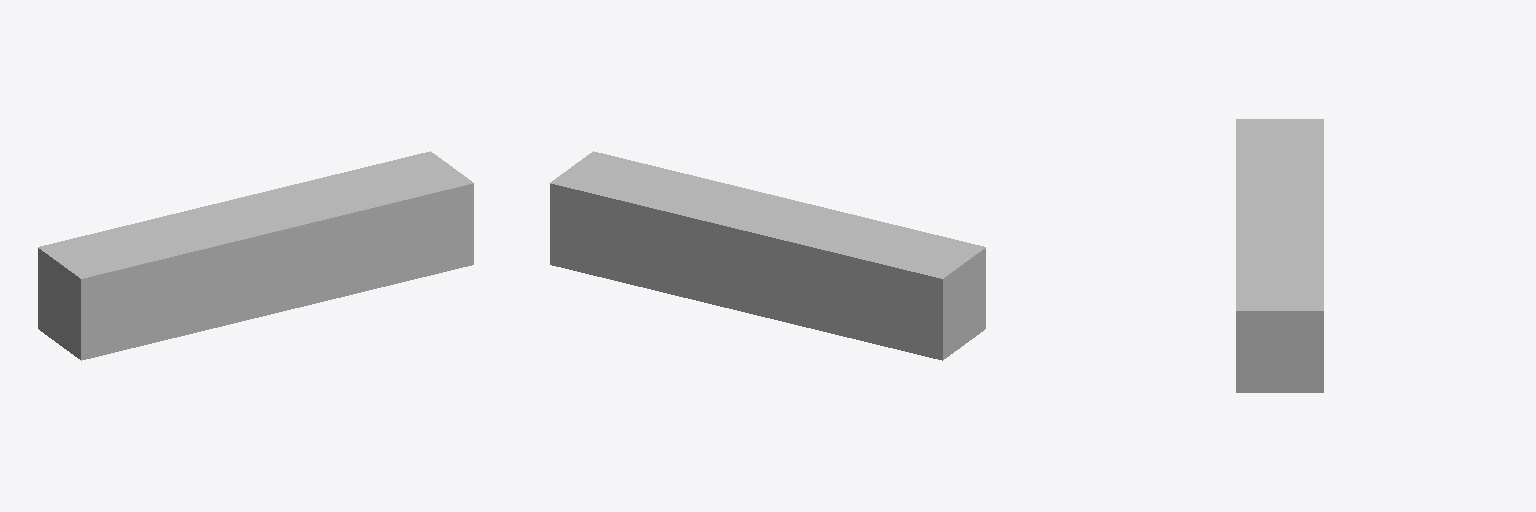
Rendered from nadproze_window.obj.
3 views of the same model, side by side, from view 1: azimuth 30°, elevation 25°; view 2: azimuth 150°, elevation 25°; view 3: azimuth 270°, elevation 25° (orthographic).
Parts seen in each view (by area): view 1: Extrusion; view 2: Extrusion; view 3: Extrusion.
Part boxes in pixels (left/top/right/bottom): Extrusion: left=38, top=151, right=473, bottom=360; Extrusion: left=550, top=151, right=985, bottom=360; Extrusion: left=1236, top=119, right=1323, bottom=392.
Bounding box in the file's own units: 1.3 × 0.2579 × 0.25.